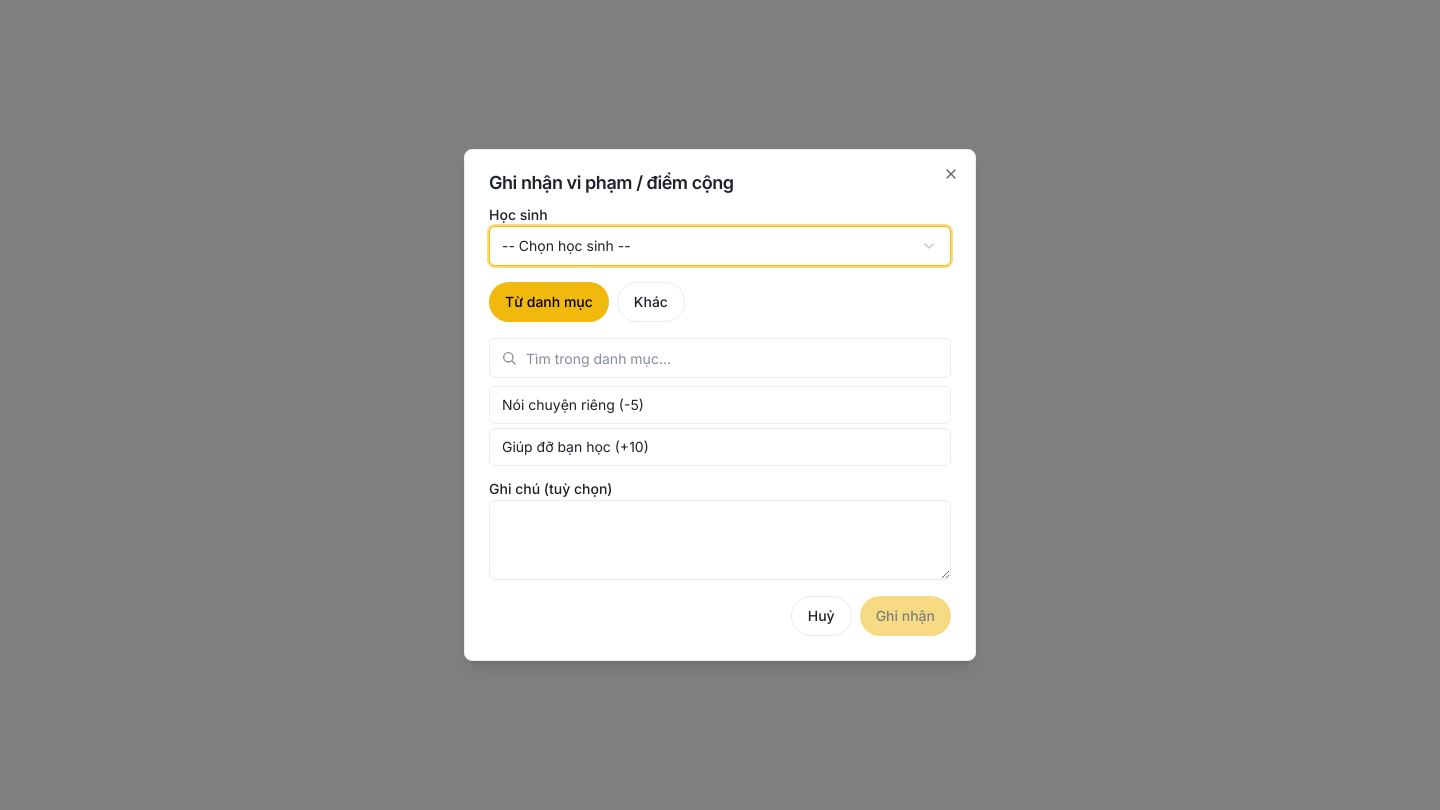
Test: lỗi submit hiện bằng Alert shadcn (role=alert, biến thể destructive)
This screenshot has width=1440, height=810.
Select "Nguyễn Văn A" in the dropdown labelled "Học sinh" at (720, 246), box top-left (489, 226), bottom-right (951, 266)
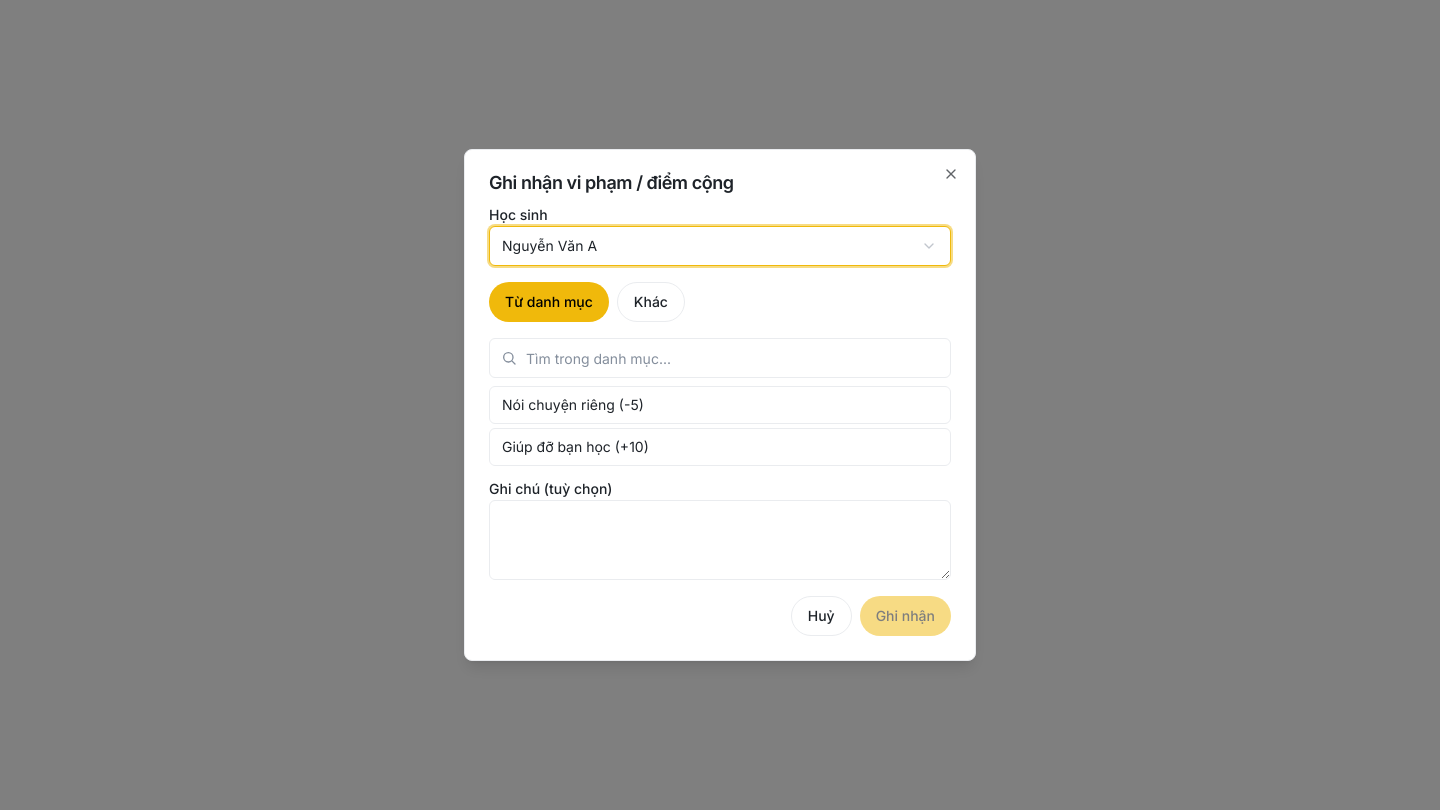
Click the button "Nói chuyện riêng (-5)" at (558, 404), box top-left (489, 386), bottom-right (951, 424)
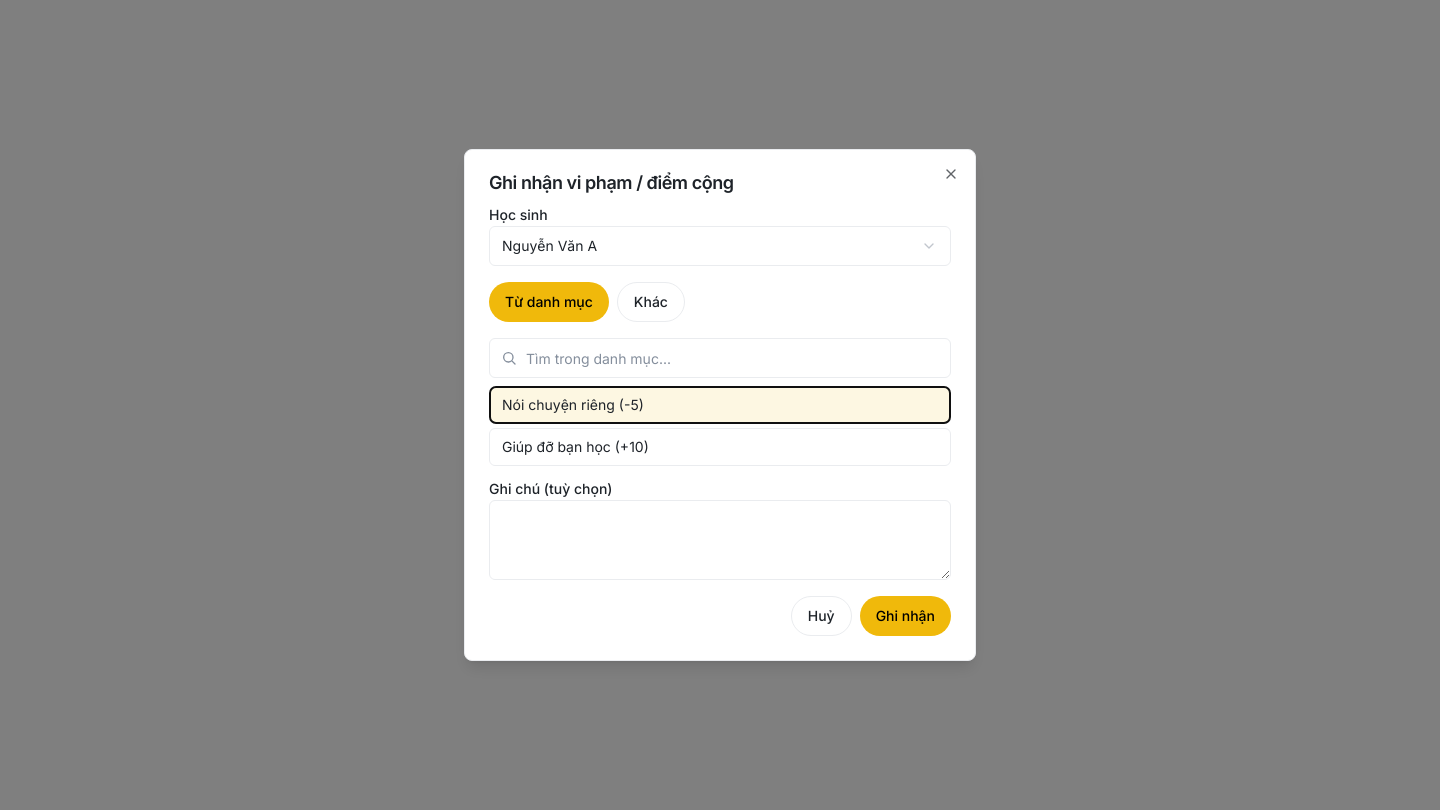
Click the button "Ghi nhận" at (905, 616), box top-left (860, 596), bottom-right (951, 636)
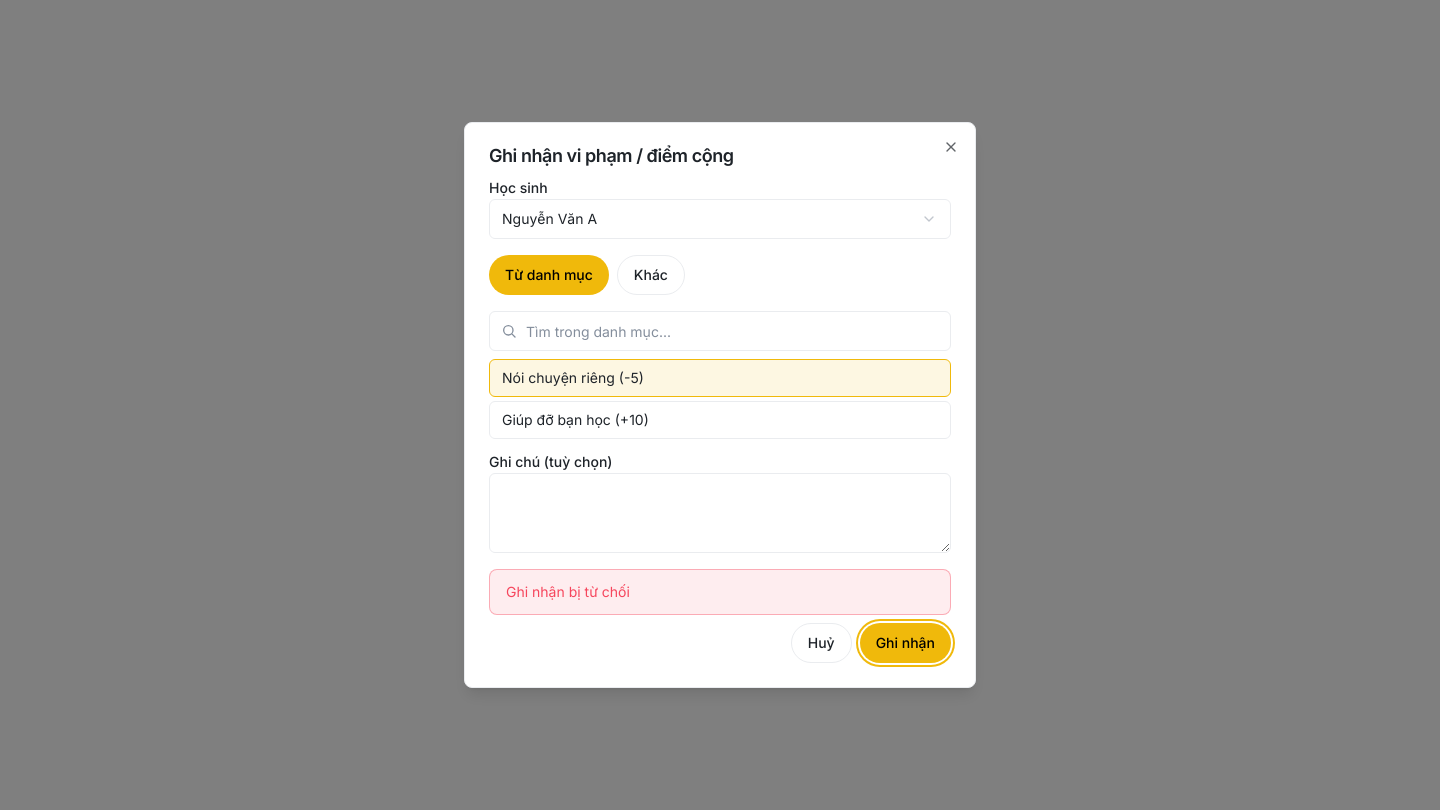
Result: the message reads "Ghi nhận bị từ chối" at top-left (506, 583), bottom-right (630, 600)
